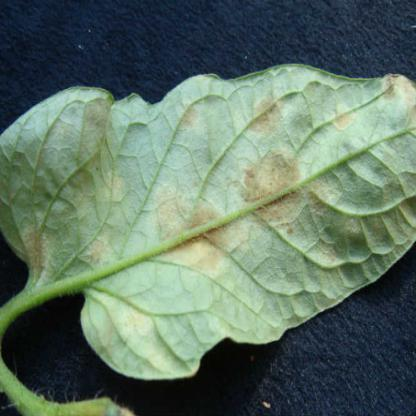tomato mold leaf: (3, 54, 415, 391)
